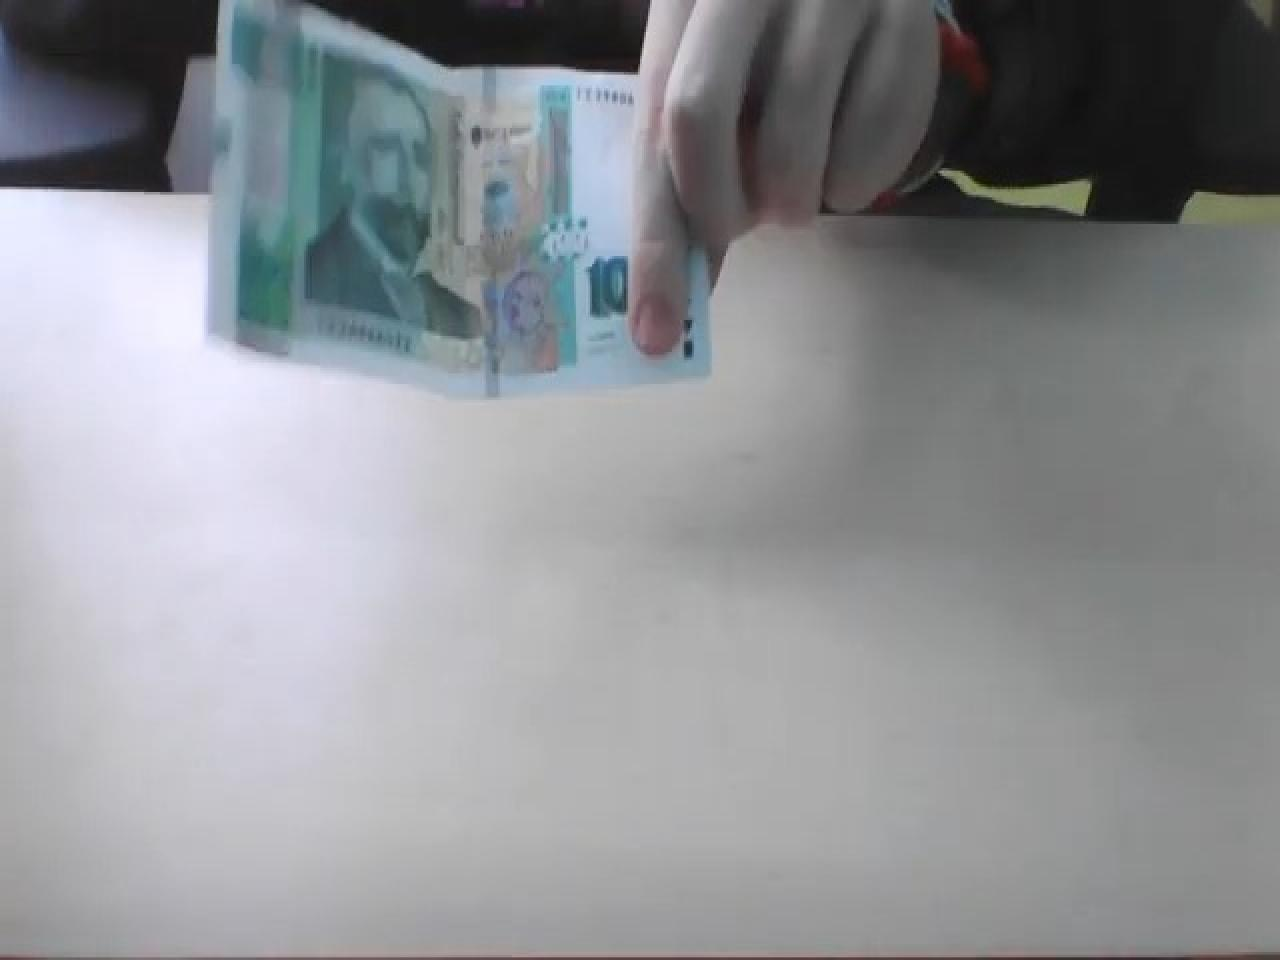100leva: (204, 0, 714, 400)
